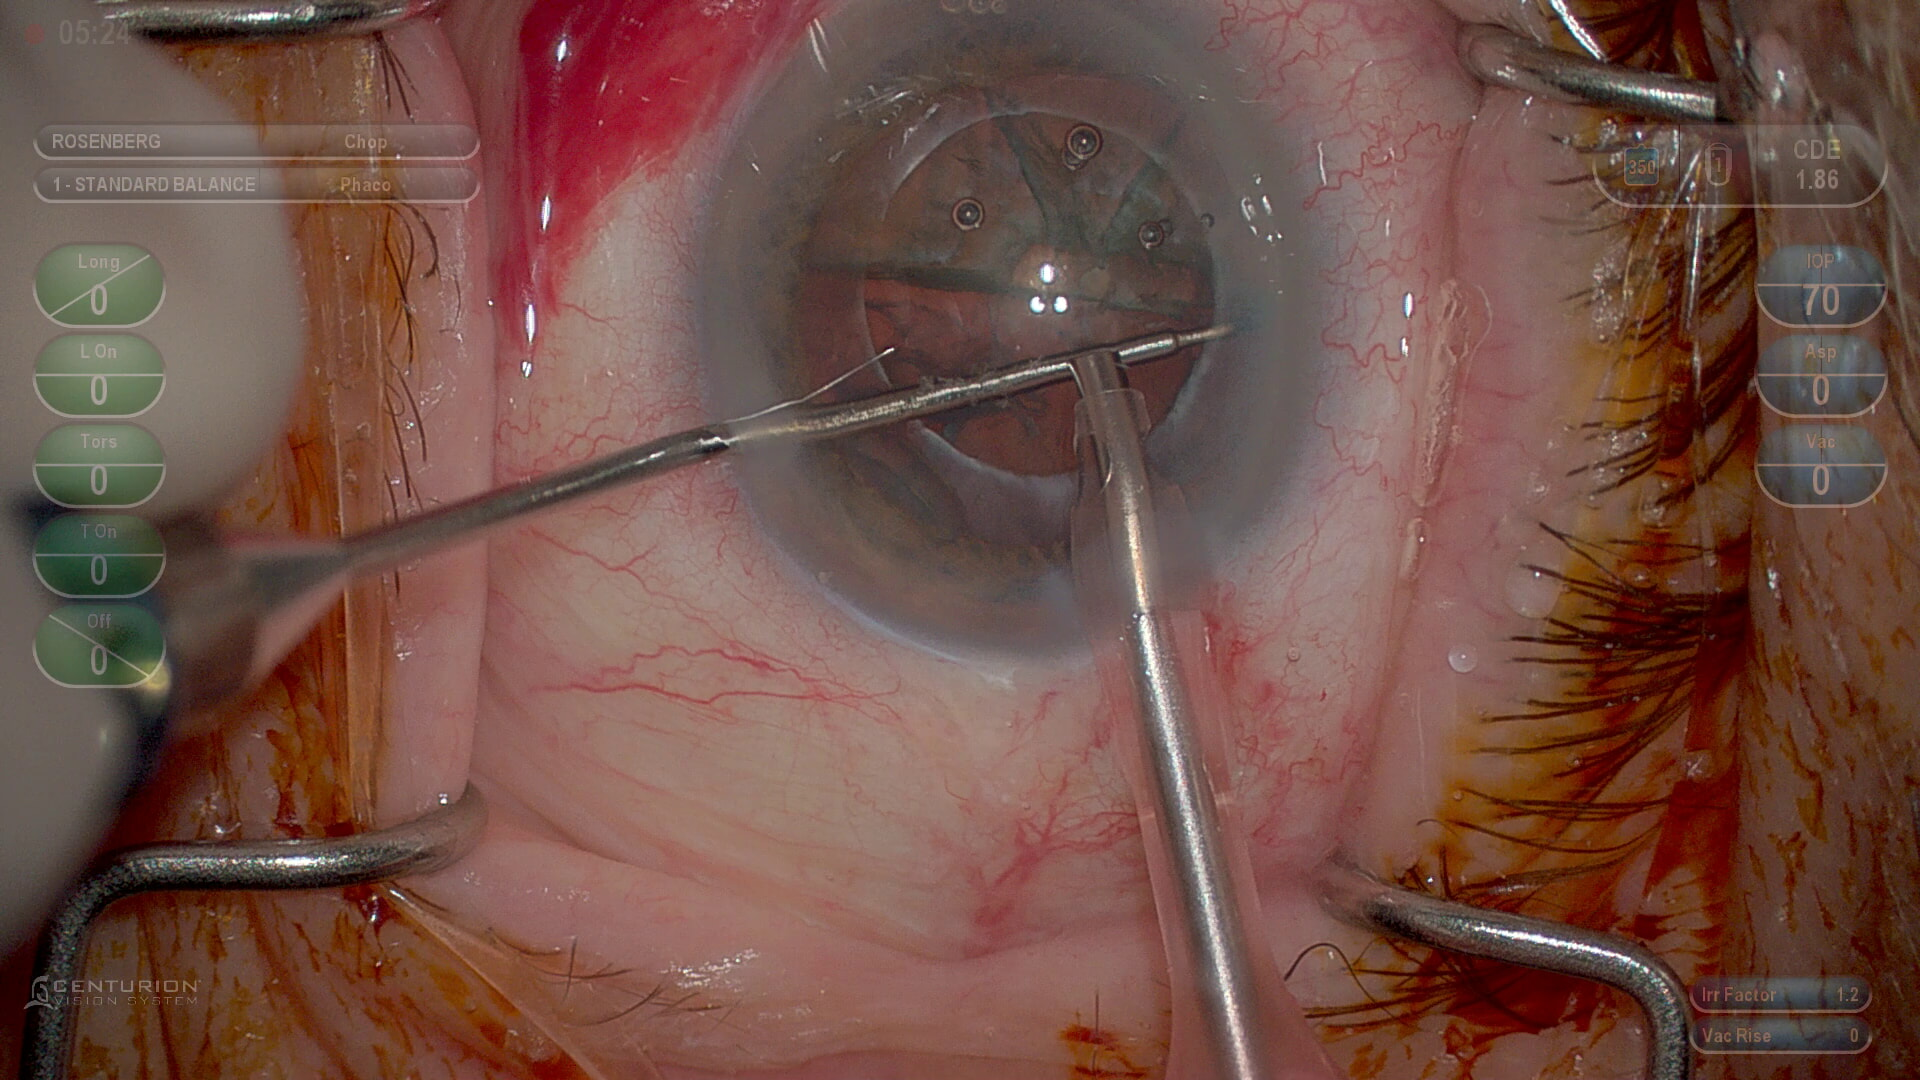iris: (781, 56, 1289, 589)
pupil: (867, 109, 1225, 473)
